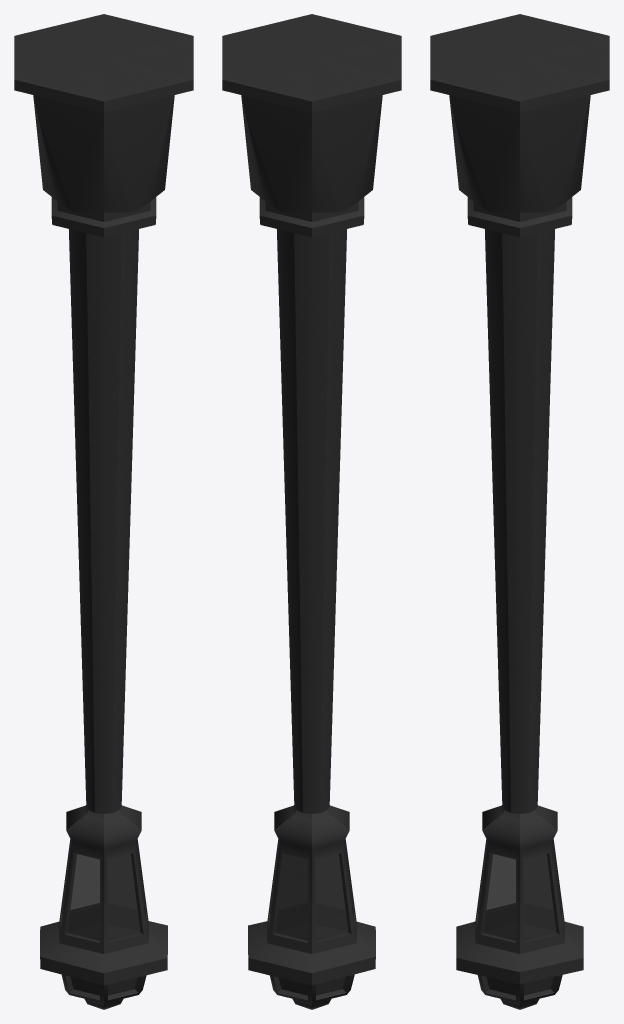
Rendered from Lamp.obj.
3 renders of one model, left to right at view 1: azimuth 30°, elevation 25°; view 2: azimuth 150°, elevation 25°; view 3: azimuth 270°, elevation 25°, orthographic.
Parts seen in each view (by area): view 1: Post2_Untitled.006; view 2: Post2_Untitled.006; view 3: Post2_Untitled.006.
Boxes of the visible parts, <box> form: Post2_Untitled.006: <box>14,14,193,1009</box>; Post2_Untitled.006: <box>222,14,401,1009</box>; Post2_Untitled.006: <box>430,14,609,1009</box>.
Size of the model in its own units: 63.74 by 324 by 55.2.
